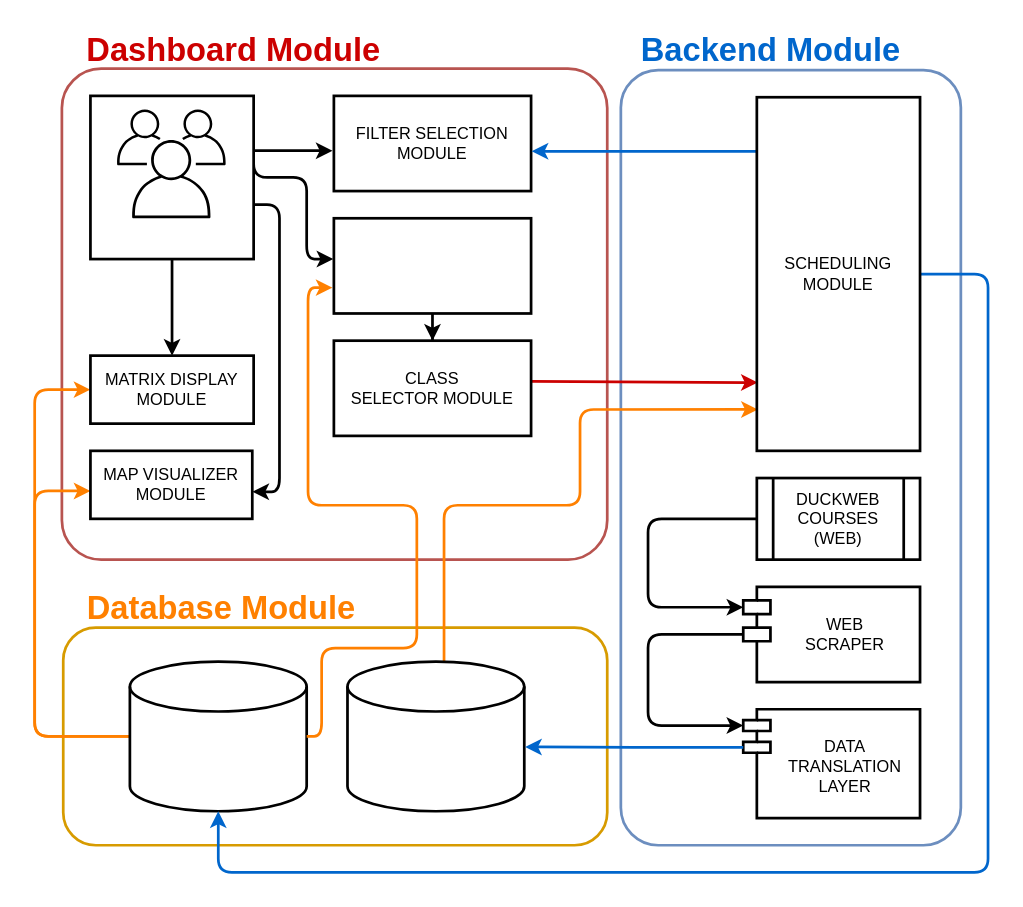
The diagram is 1023 pixels wide and 907 high, and some of its shapes have lost their labels. The centre of each missing label's shape, as x and y in pixels:
AUTHENTICATOR MODULE: (x=432, y=265)
CLASS DATA DATABASE: (x=435, y=736)
USER DATABASE: (x=217, y=736)
USERS: (x=170, y=163)
